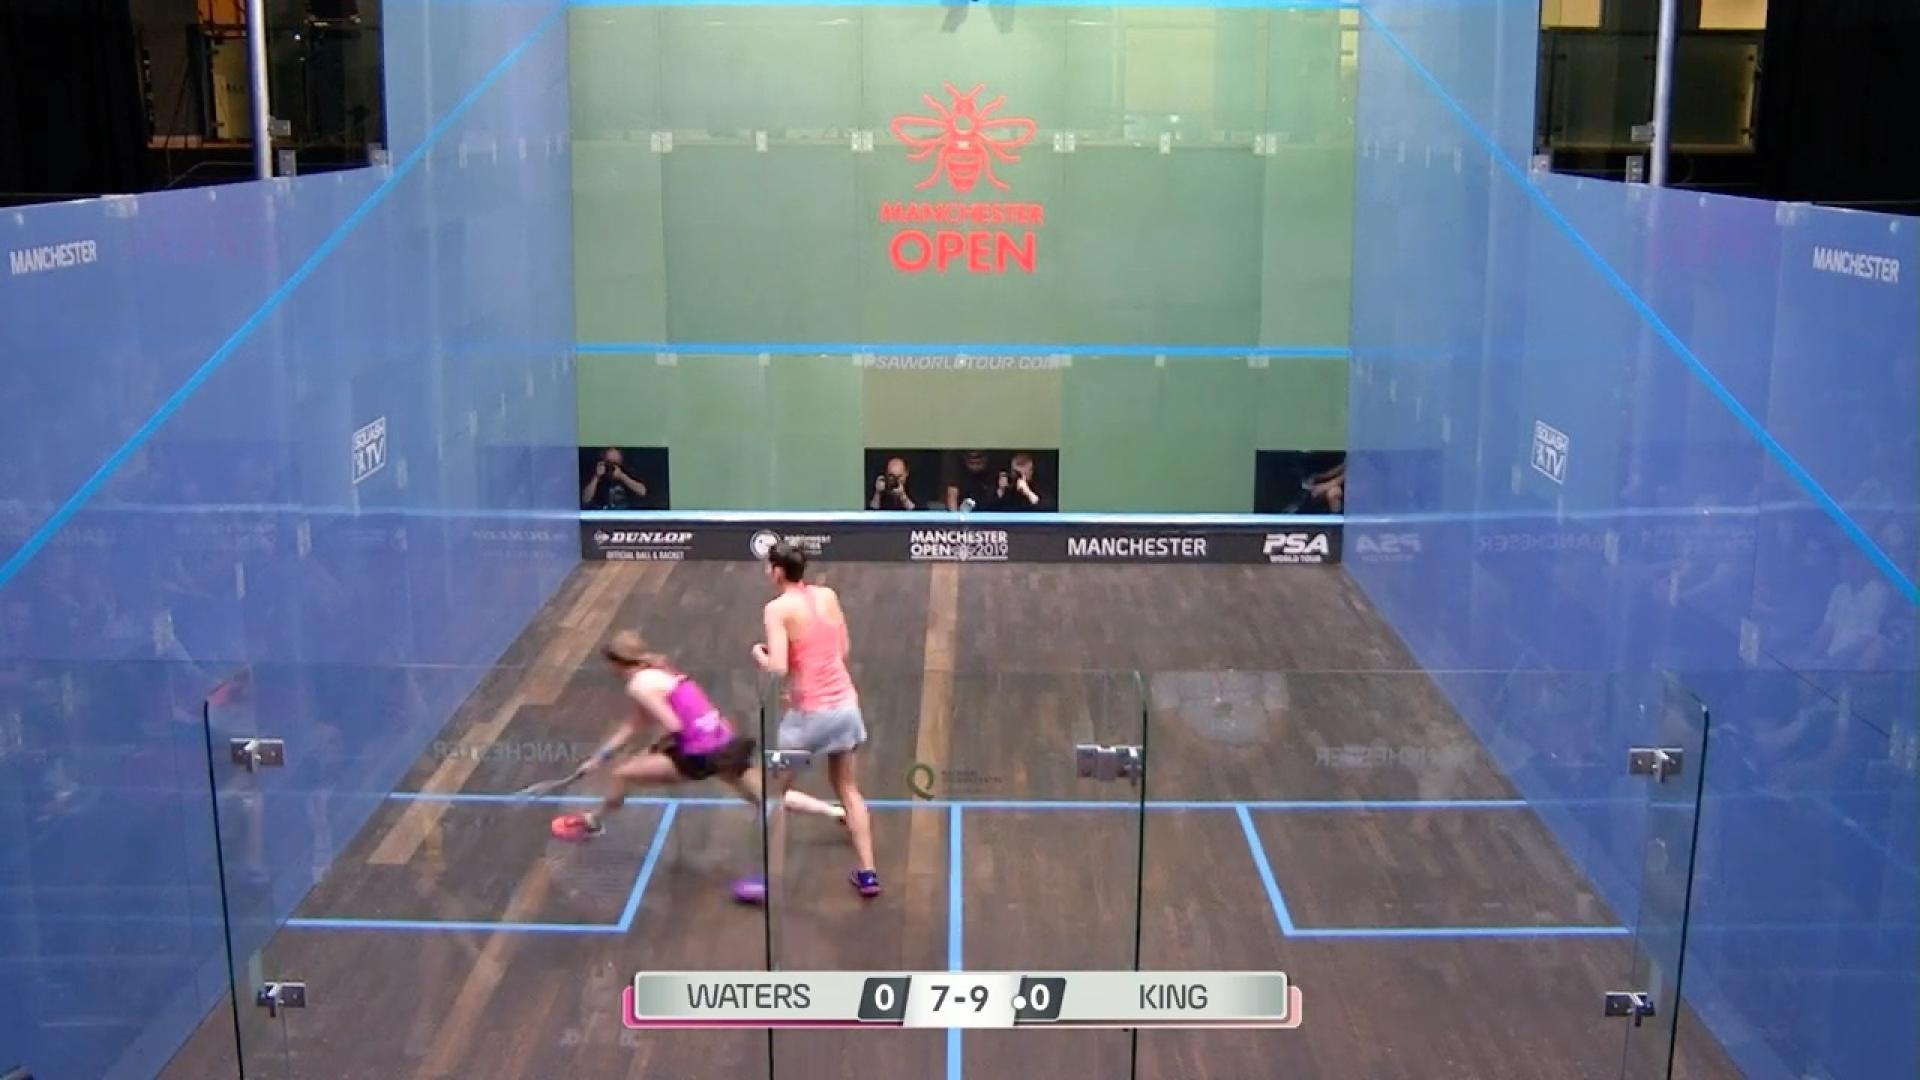Squash-Ball: (450, 731, 495, 790)
